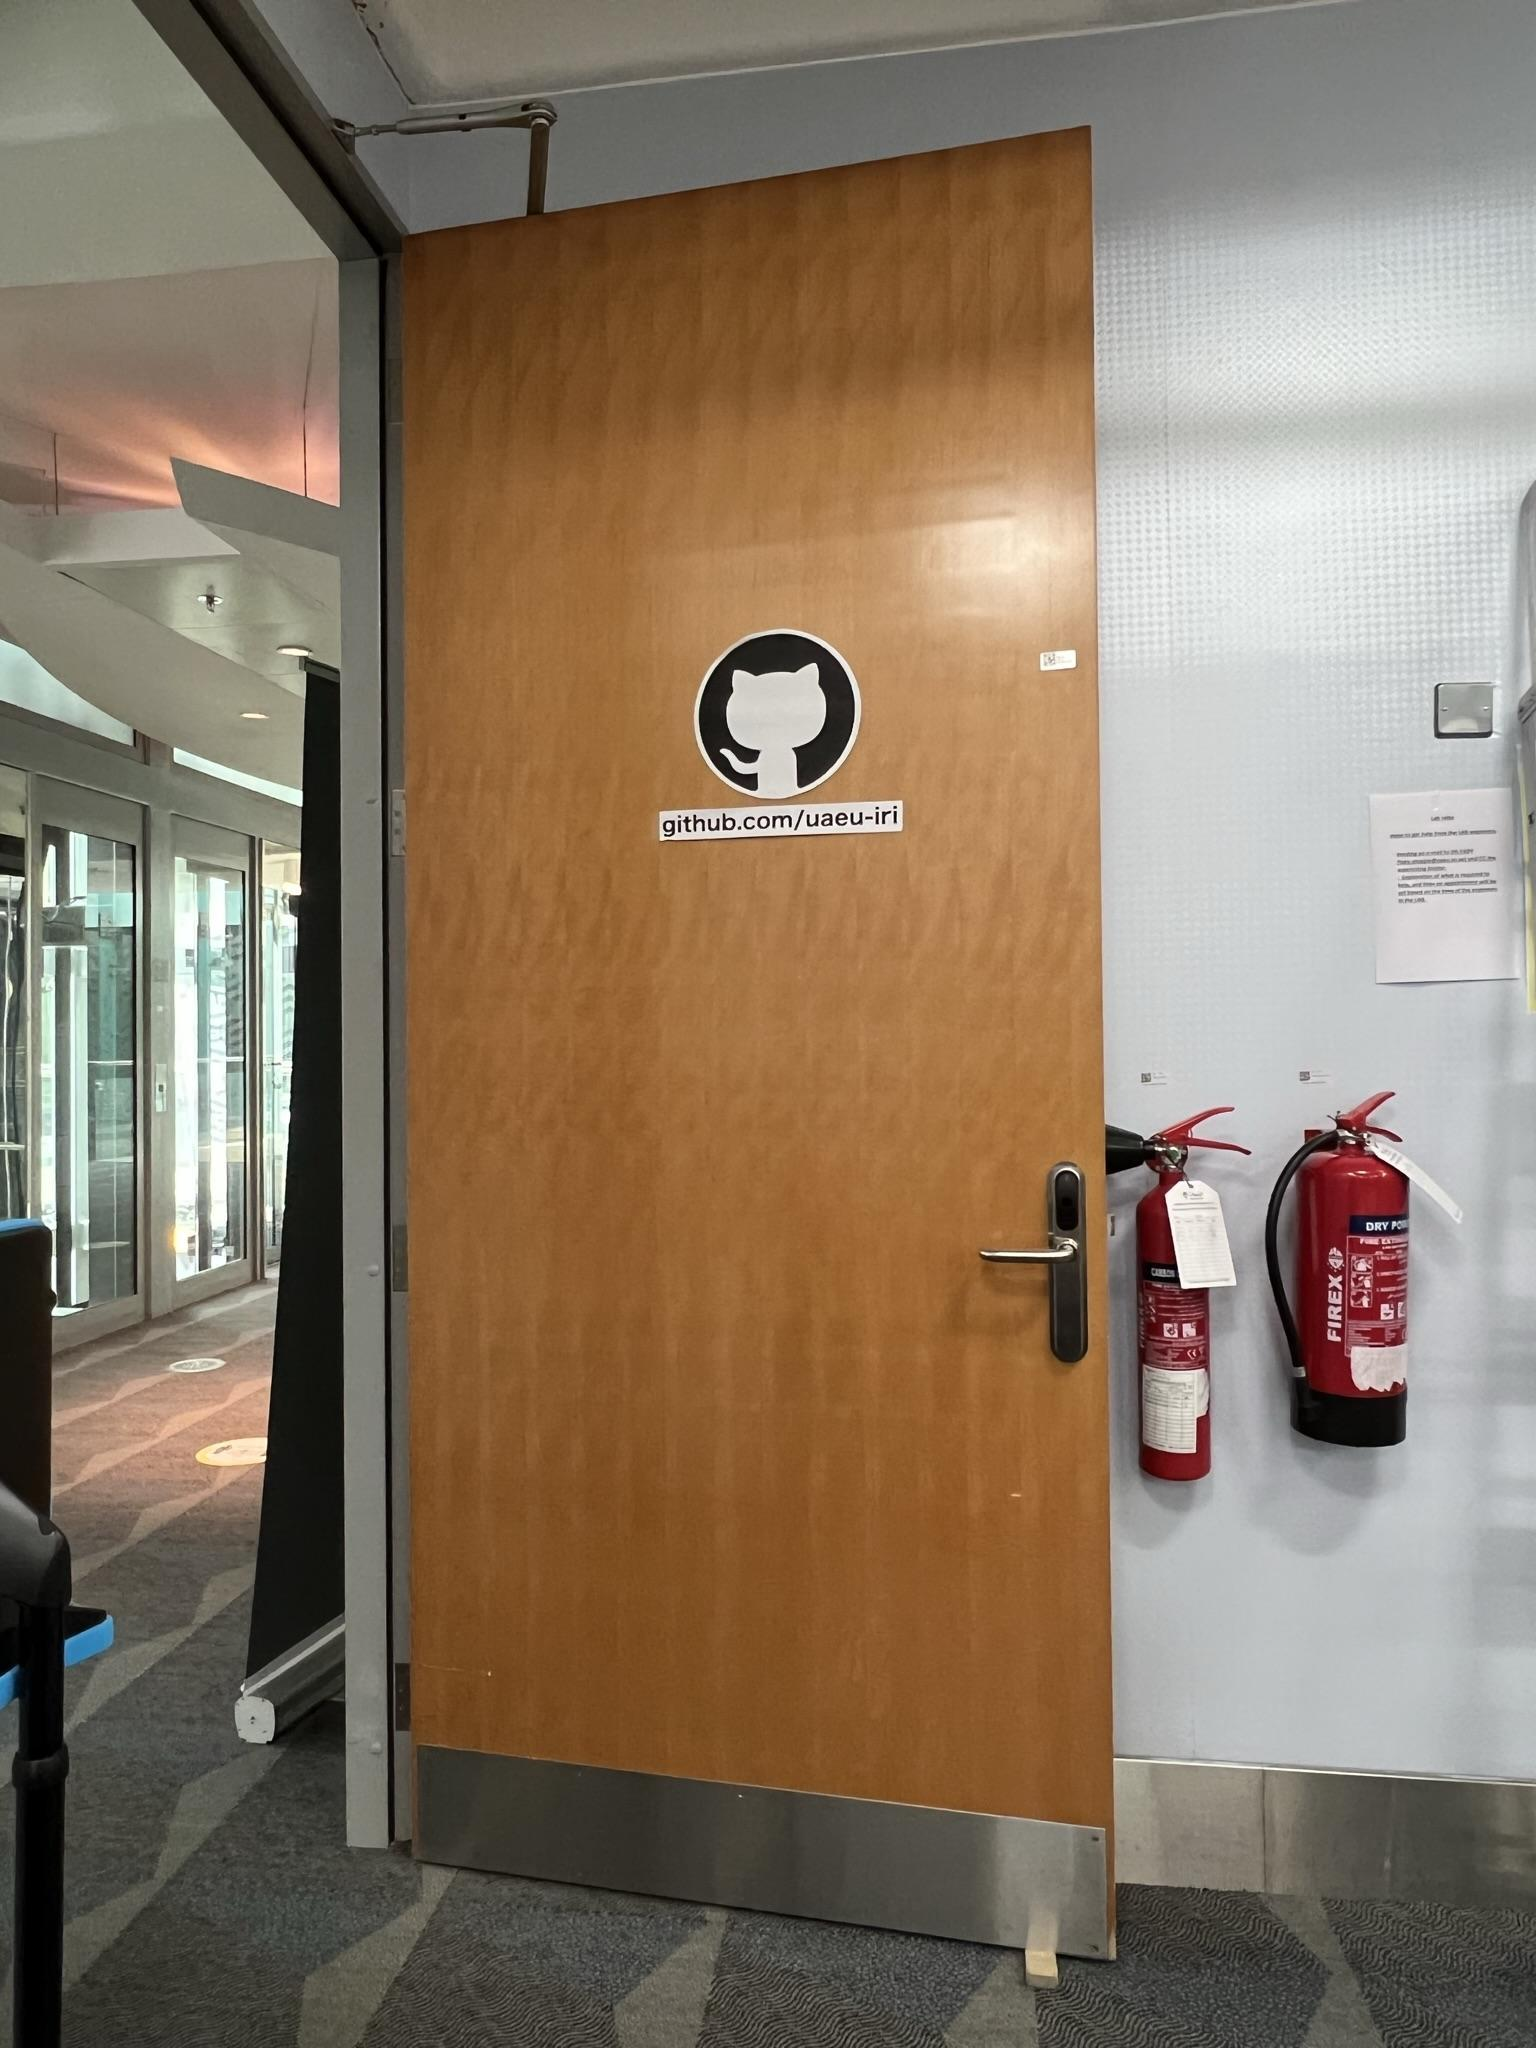door: (382, 221, 1129, 1935)
handle: (983, 1166, 1105, 1385)
